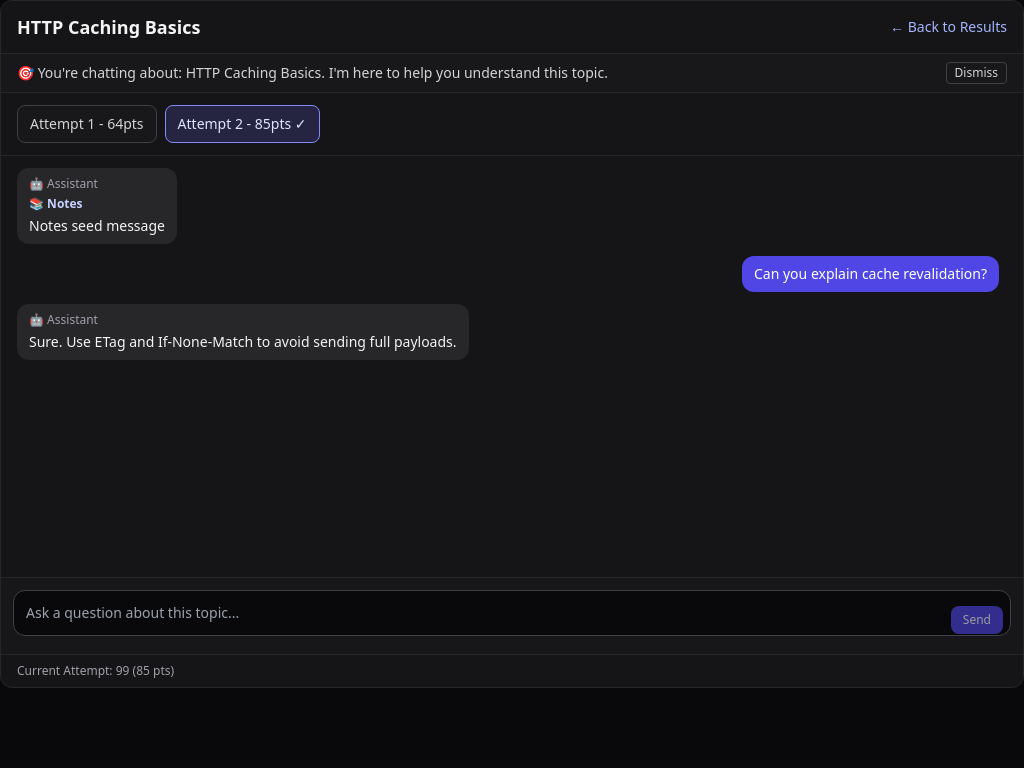
it: ChatPage › shows optimistic user message before API resolves
This screenshot has width=1024, height=768.
Expected: the heading "HTTP Caching Basics" is shown, top-left (17, 13), bottom-right (200, 41)
In the text box with placeholder "Ask a question about this topic...": (512, 613) top-left (13, 590), bottom-right (1011, 636), type "What is stale-while-revalidate?"
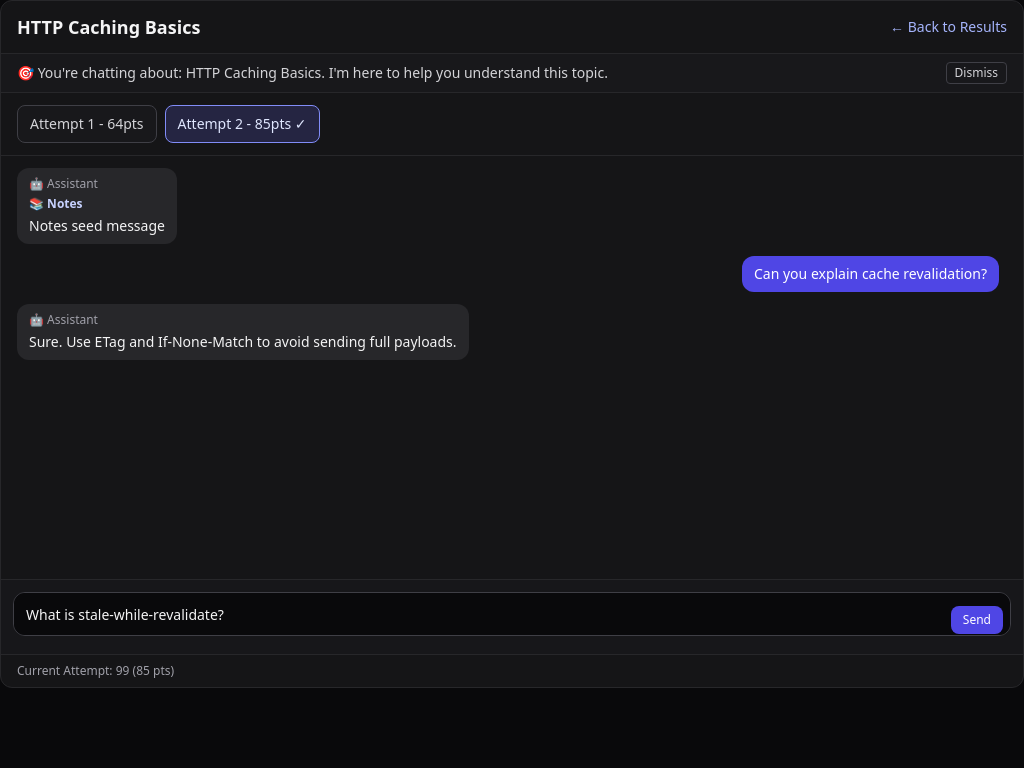
Press Enter in the text box with placeholder "Ask a question about this topic...", box top-left (13, 592), bottom-right (1011, 636)
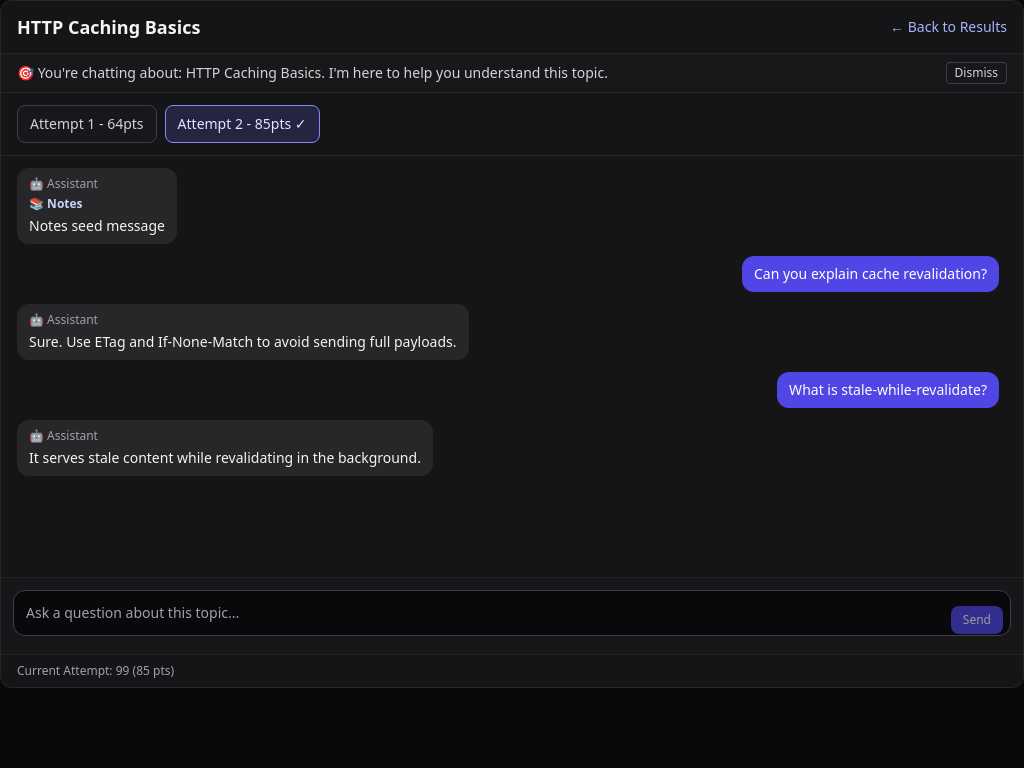
Result: the text "It serves stale content while revalidating in the background." is shown at top-left (29, 448), bottom-right (421, 468)
